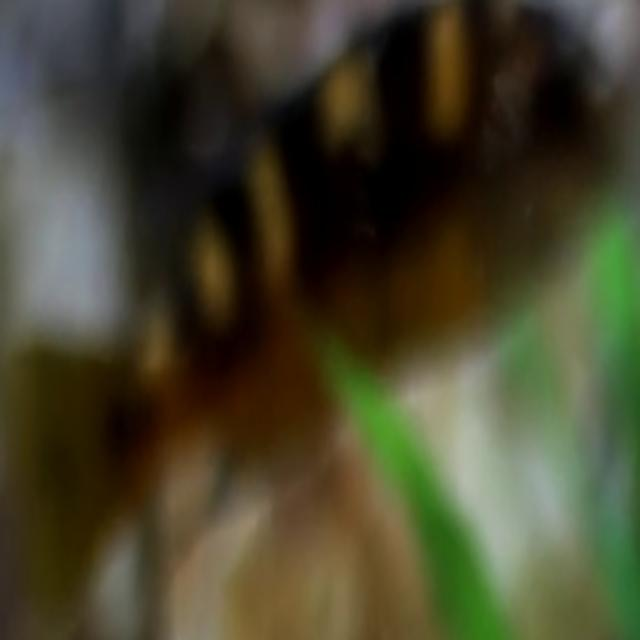fish: (1, 3, 640, 640)
